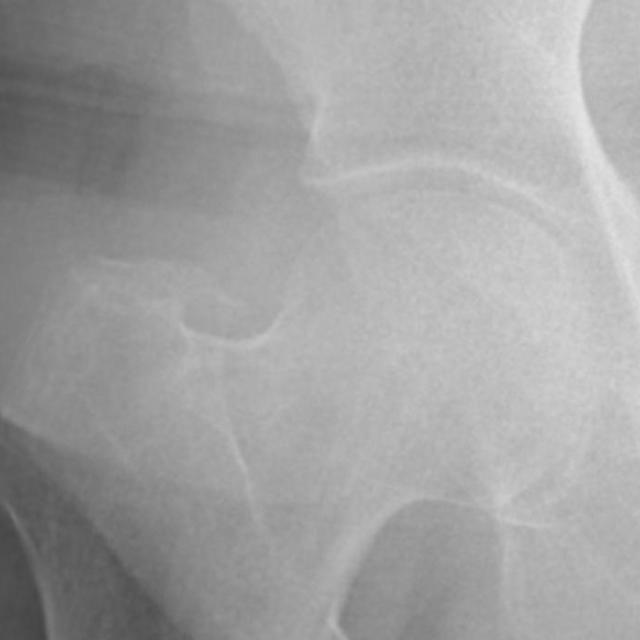Fitted_femural_head: (330, 188, 432, 330)
